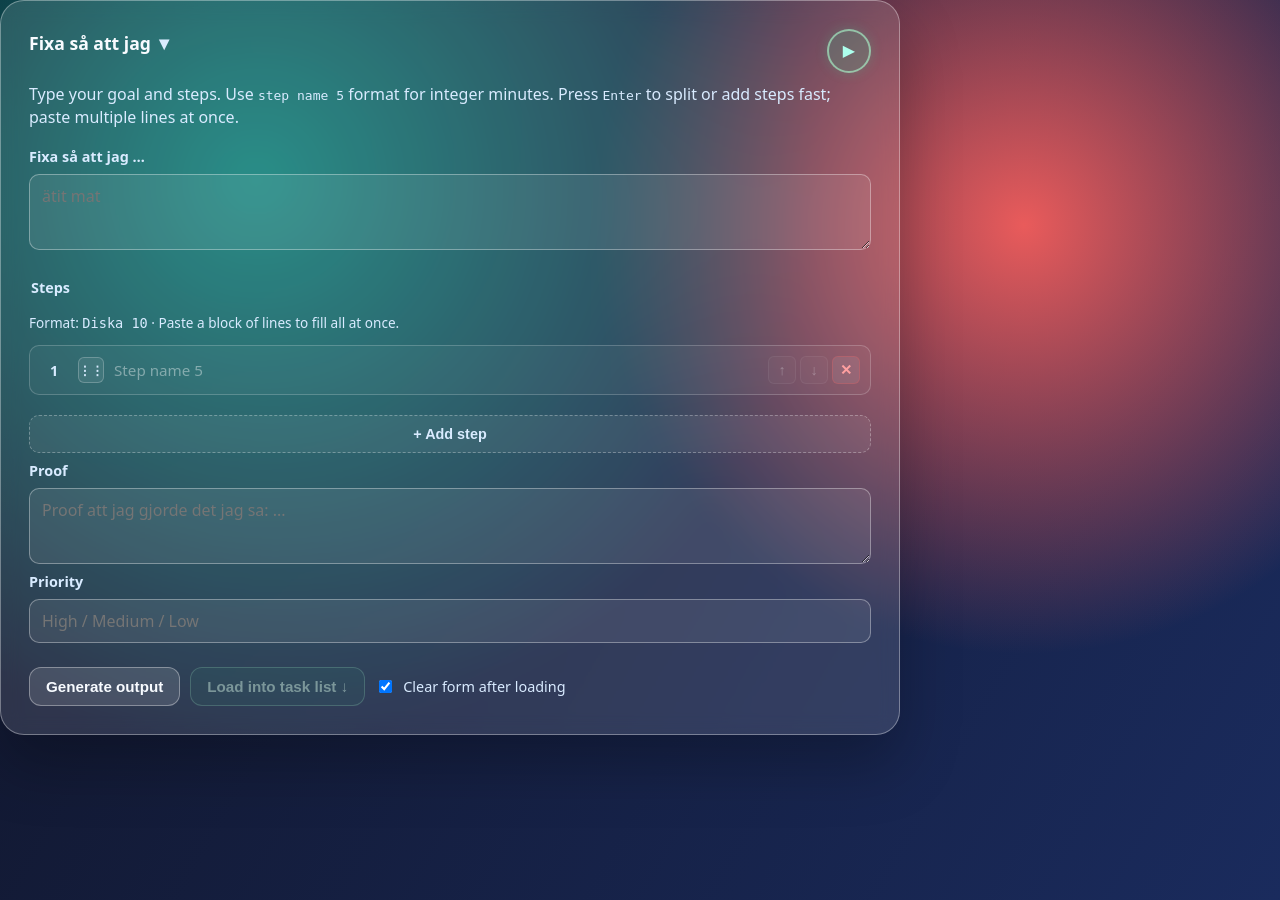
Test: StructuredTaskBuilder – Load into task list › T7: Load shows "Loaded into task list ↓" message after success
Type "message test" into the text box with placeholder "ätit mat" at (450,212), box [29, 174, 871, 250]
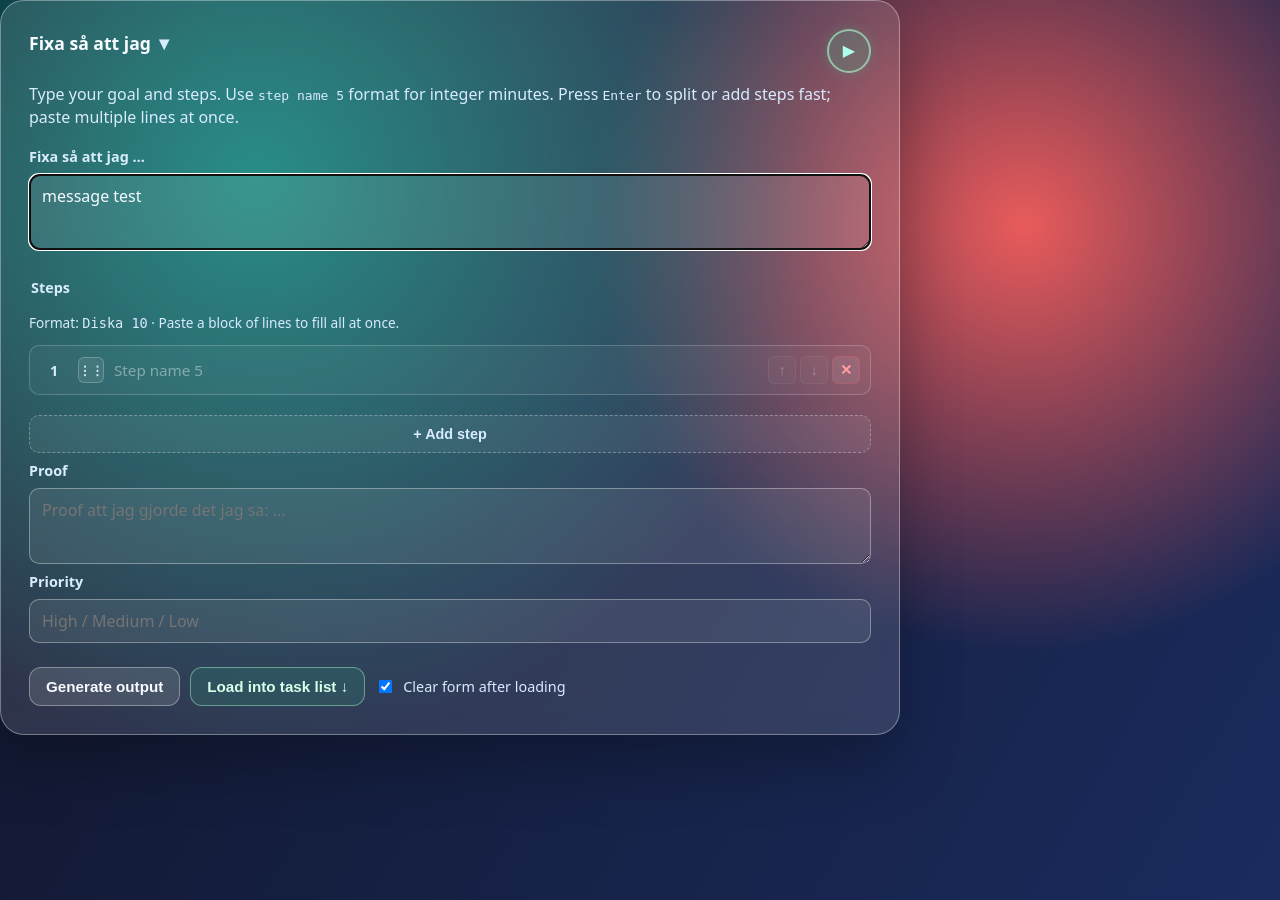
Click the button "Load into task list ↓" at (278,687), box [190, 667, 365, 706]
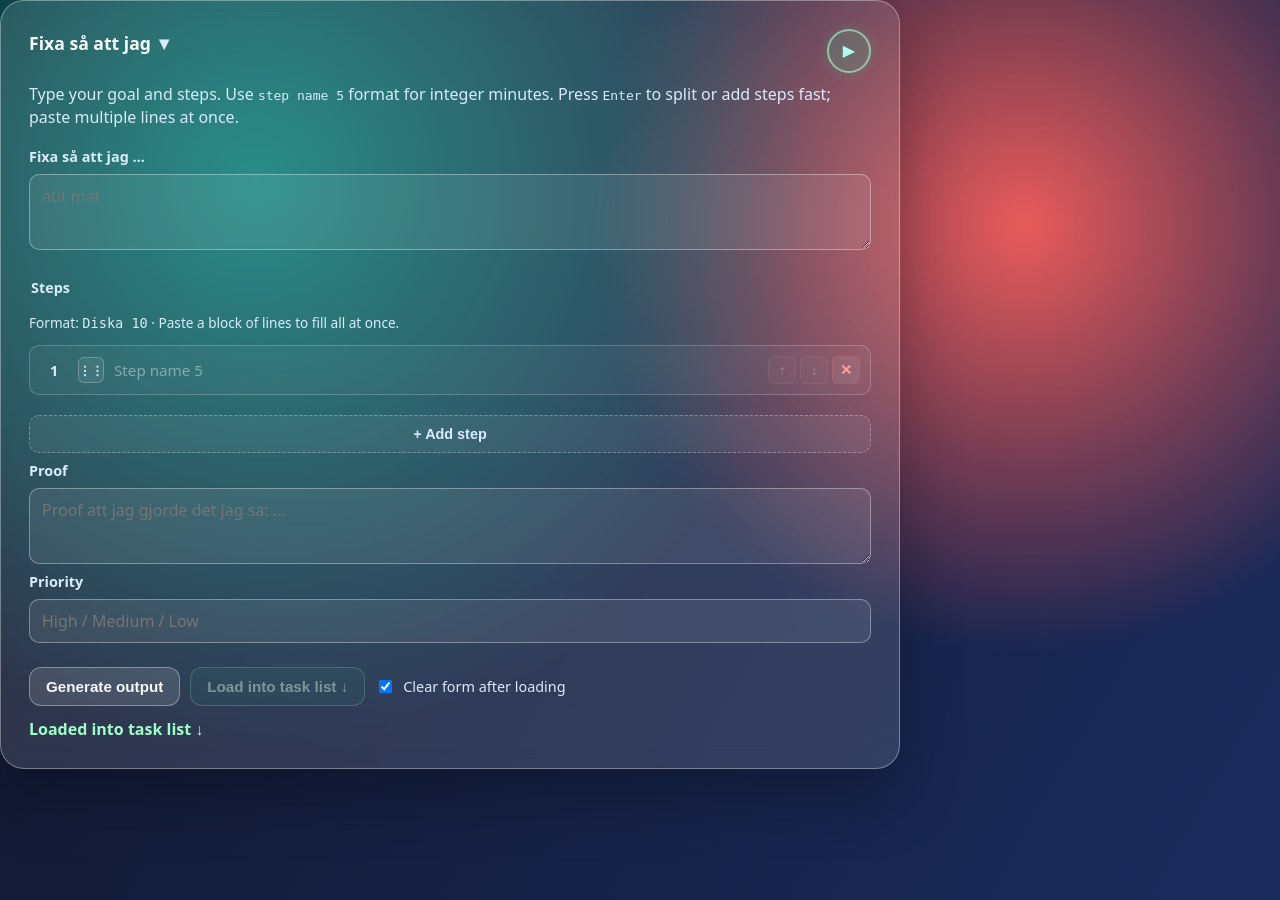
Check: the text "Loaded into task list ↓" is shown, box [29, 718, 203, 740]
